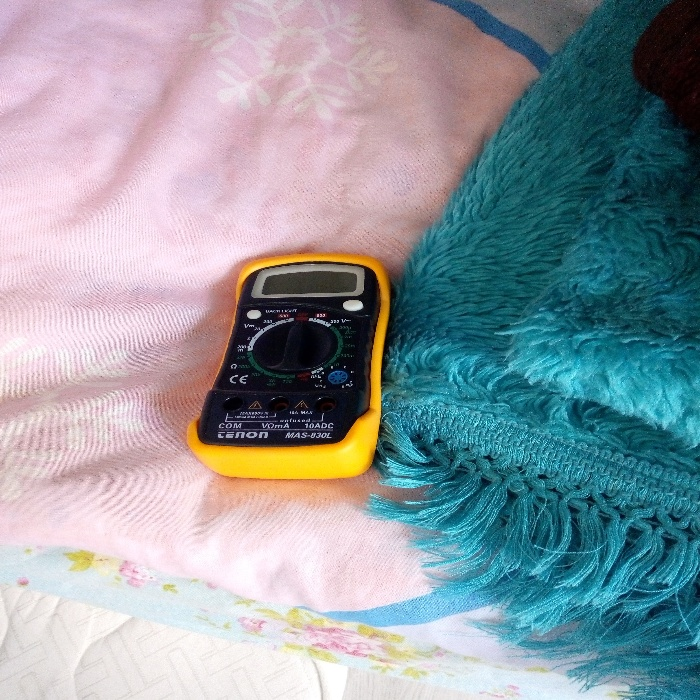multimetre: (172, 231, 409, 496)
